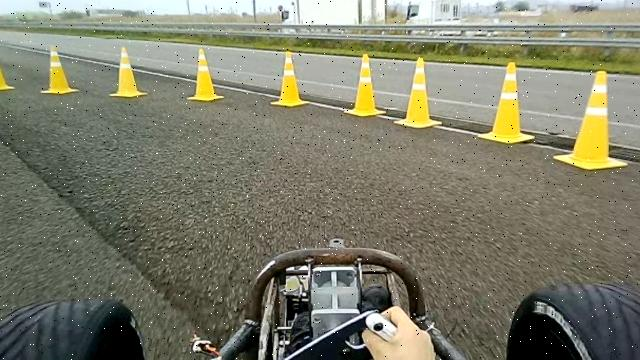yellow cone: (552, 70, 628, 170), (477, 61, 535, 144), (393, 56, 442, 128), (343, 52, 387, 117), (269, 50, 309, 107), (186, 47, 224, 102), (109, 46, 148, 98), (40, 44, 79, 95), (0, 43, 15, 91)
